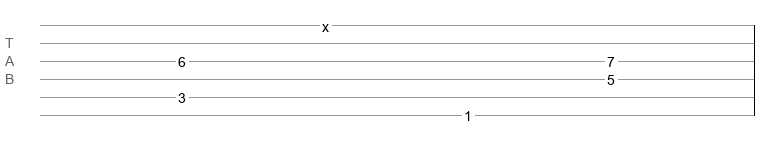1: (464, 108, 472, 118)
3: (178, 90, 186, 100)
5: (607, 72, 615, 82)
6: (178, 54, 186, 64)
7: (607, 54, 615, 64)
x: (322, 19, 329, 27)
